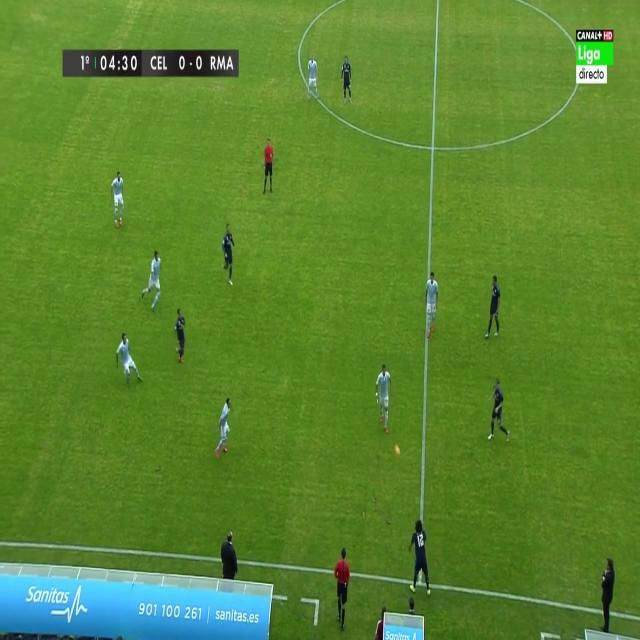Ball: (392, 441, 402, 459)
Player: (408, 517, 432, 596), (486, 373, 512, 444), (113, 331, 145, 388), (140, 250, 166, 314), (374, 362, 394, 436), (482, 273, 503, 342), (212, 393, 234, 457), (423, 269, 440, 340), (108, 168, 127, 230), (220, 221, 237, 289), (174, 303, 187, 366), (305, 53, 320, 104), (341, 55, 354, 105)
Referee: (333, 545, 352, 632), (260, 137, 276, 196)
